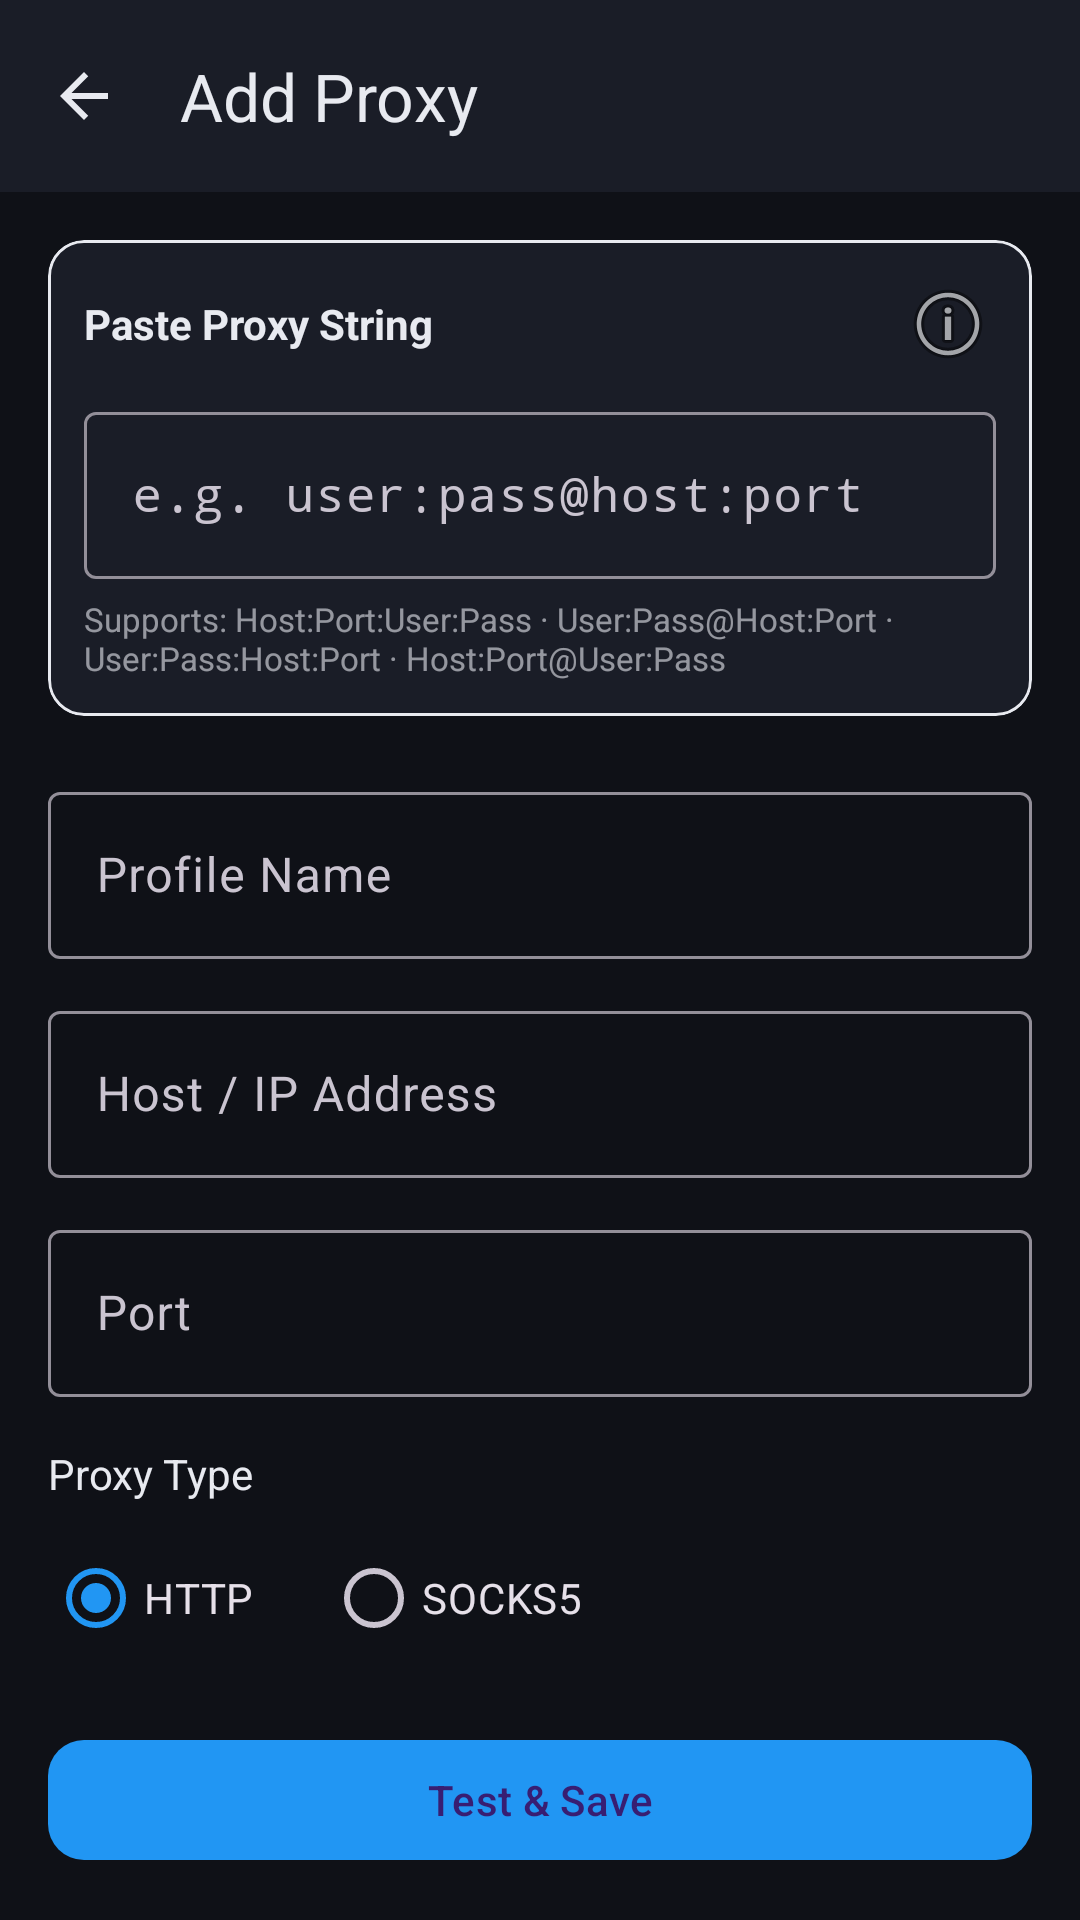

Where to tap for icons on this 1080*1920 app screen, as (x=x, y=y):
Format help: (x=948, y=324)
